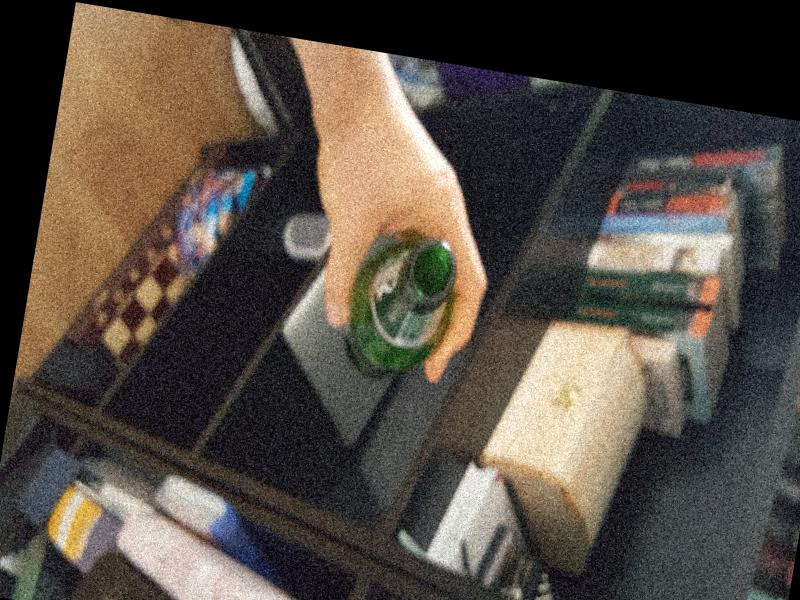Beer: (332, 225, 460, 388)
